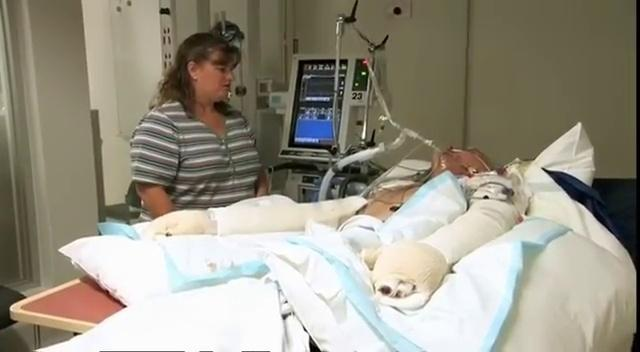others: (128, 21, 271, 223)
patient: (296, 139, 532, 311)
